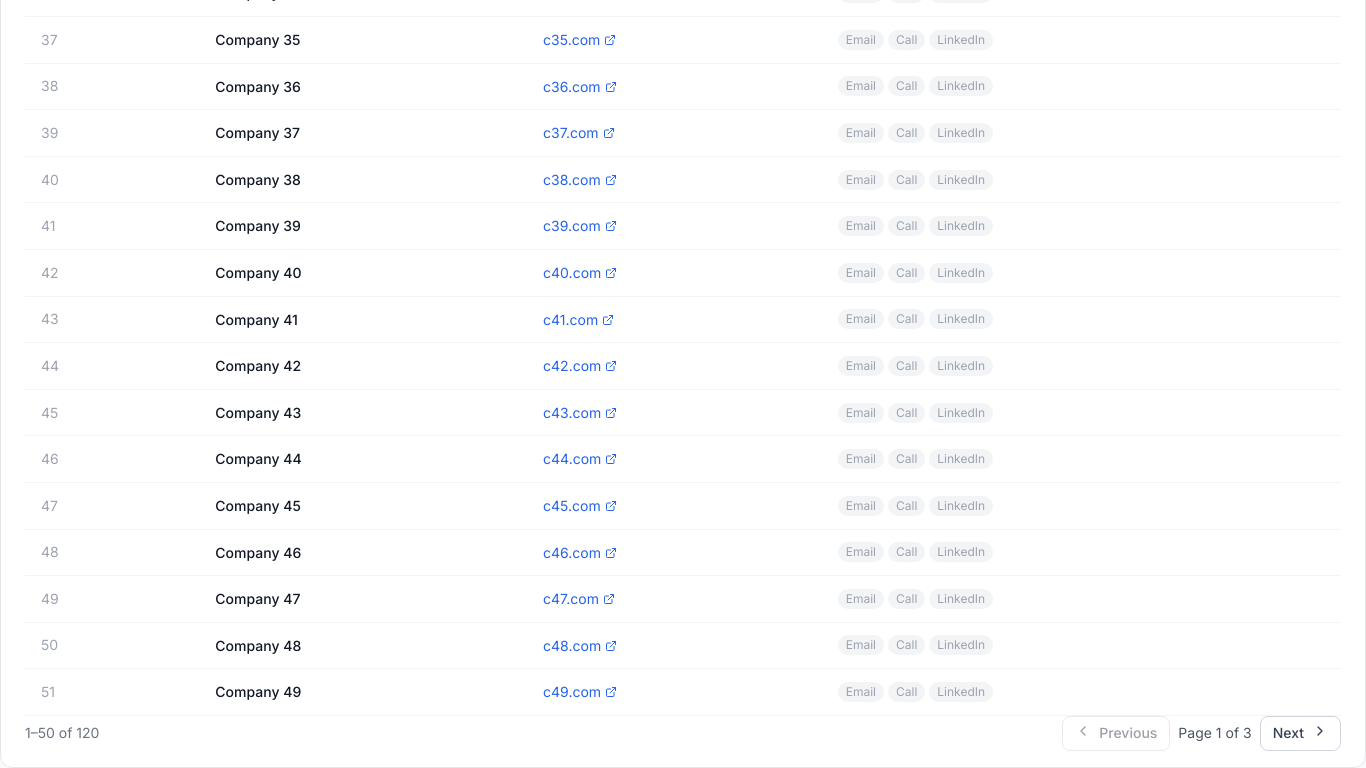
Scenario: B — ScriptFileCompanies › shows 50 companies per page and pages forward
(page scrolled)
Expected: the text with test id "companies-range" reads "1–50 of 120", [25, 724, 99, 741]
Step 1. Click the button with test id "next-page" → x=1300, y=733, box [1260, 716, 1341, 751]
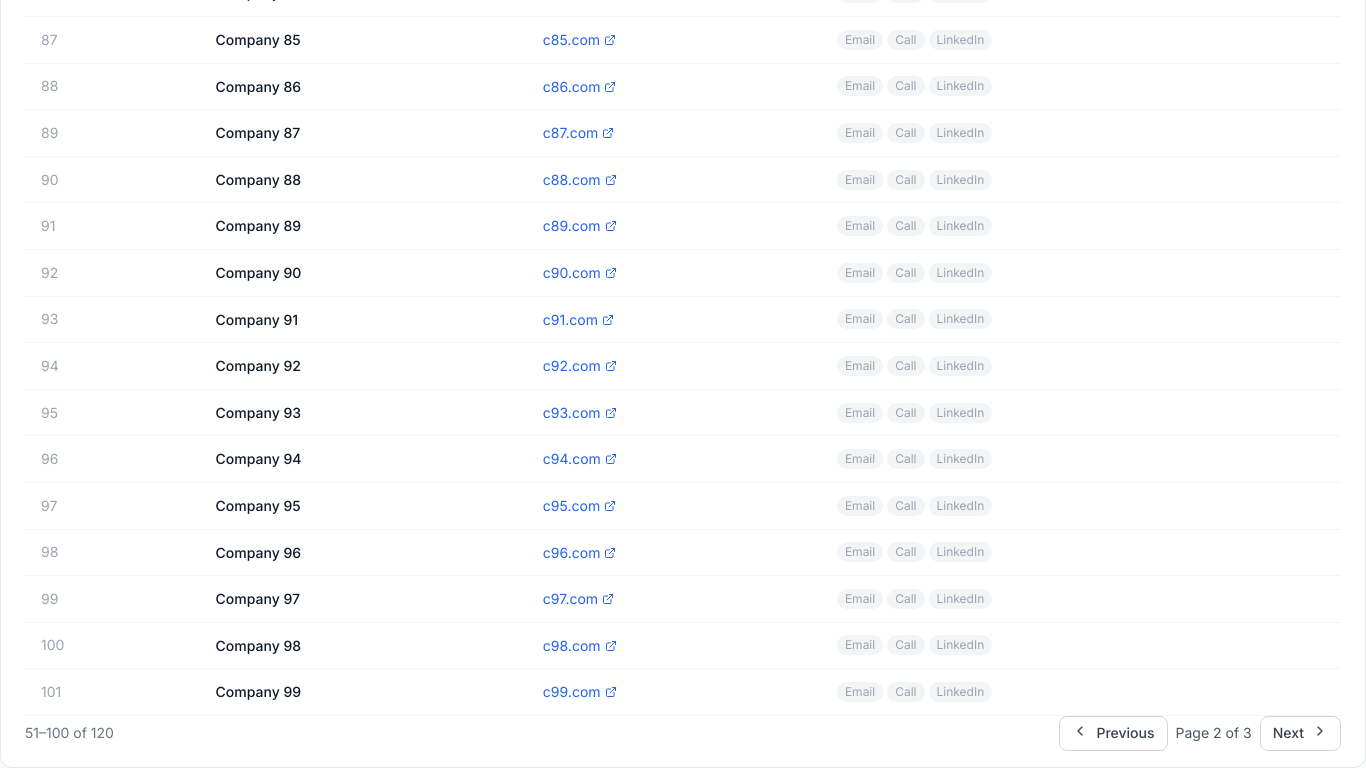
Expected: the text with test id "companies-range" reads "51–100 of 120", [25, 724, 114, 741]
Step 2. Click the button with test id "next-page" → x=1300, y=733, box [1260, 716, 1341, 751]
(page scrolled)
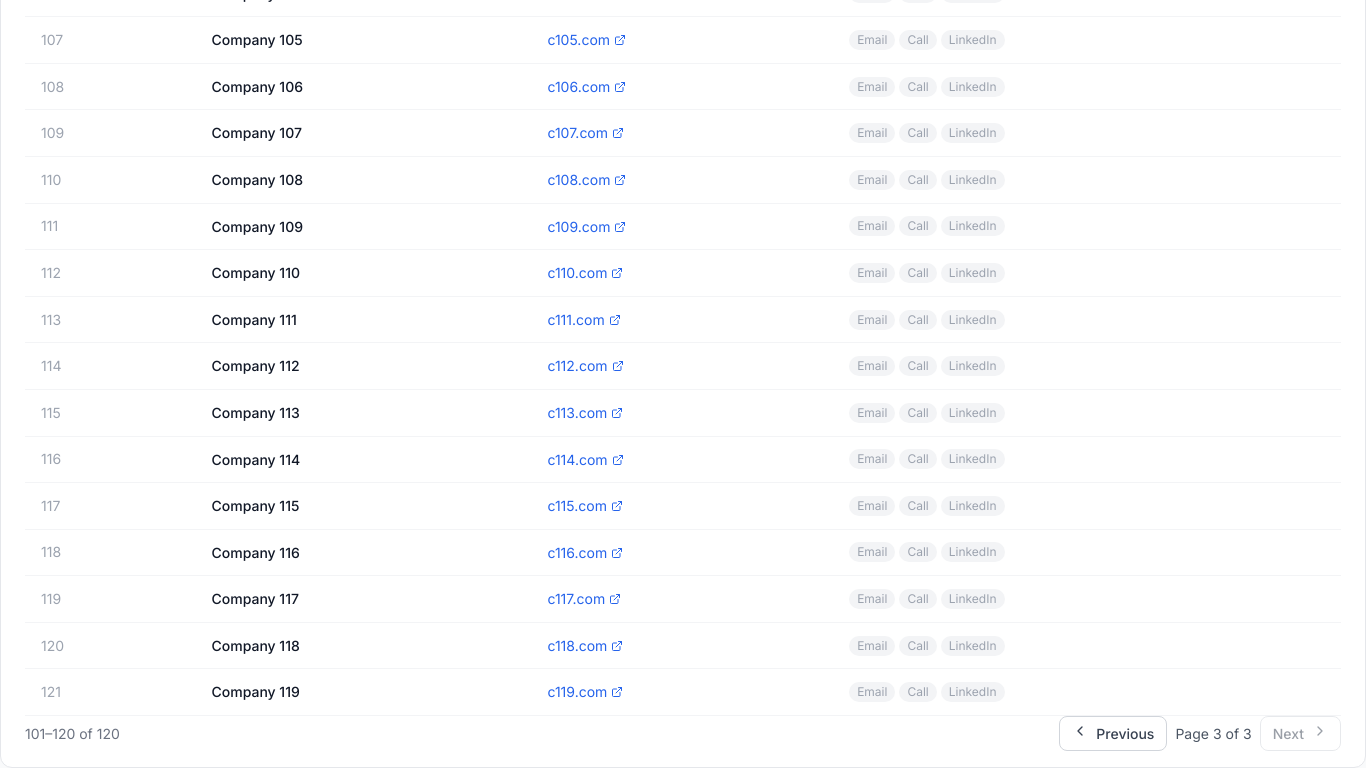
Expected: the number of elements with test id "script-company-row" is 20
Expected: the button with test id "next-page" is disabled, [1260, 716, 1341, 751]
